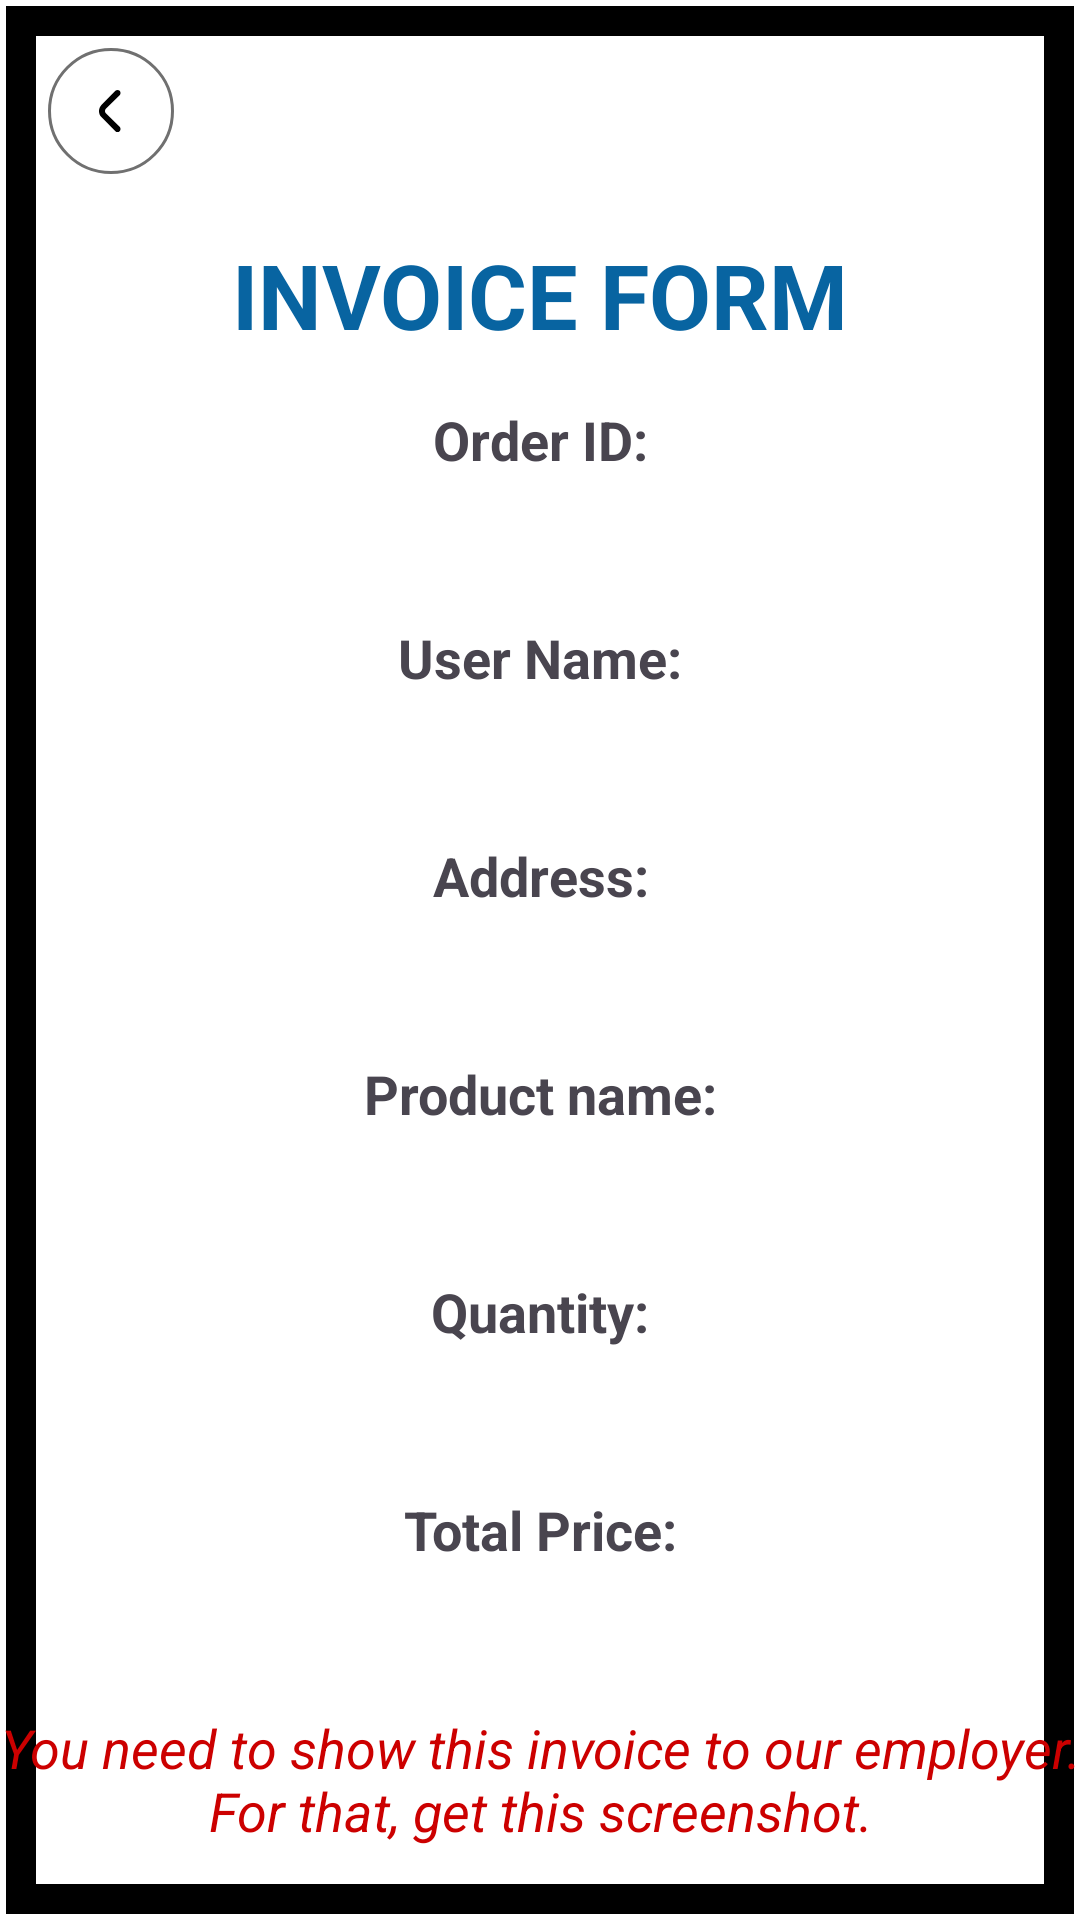

Point at icon controls on the screen. Image size 1080*1920, points as (x,y).
back: (111,111)
